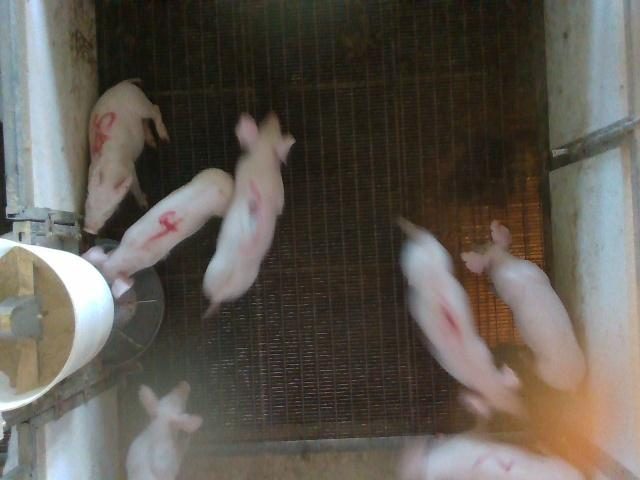pig-1: (399, 219, 519, 413)
pig-2: (424, 435, 581, 480)
pig-3: (204, 112, 295, 314)
pig-4: (84, 169, 234, 298)
pig-5: (84, 79, 169, 233)
